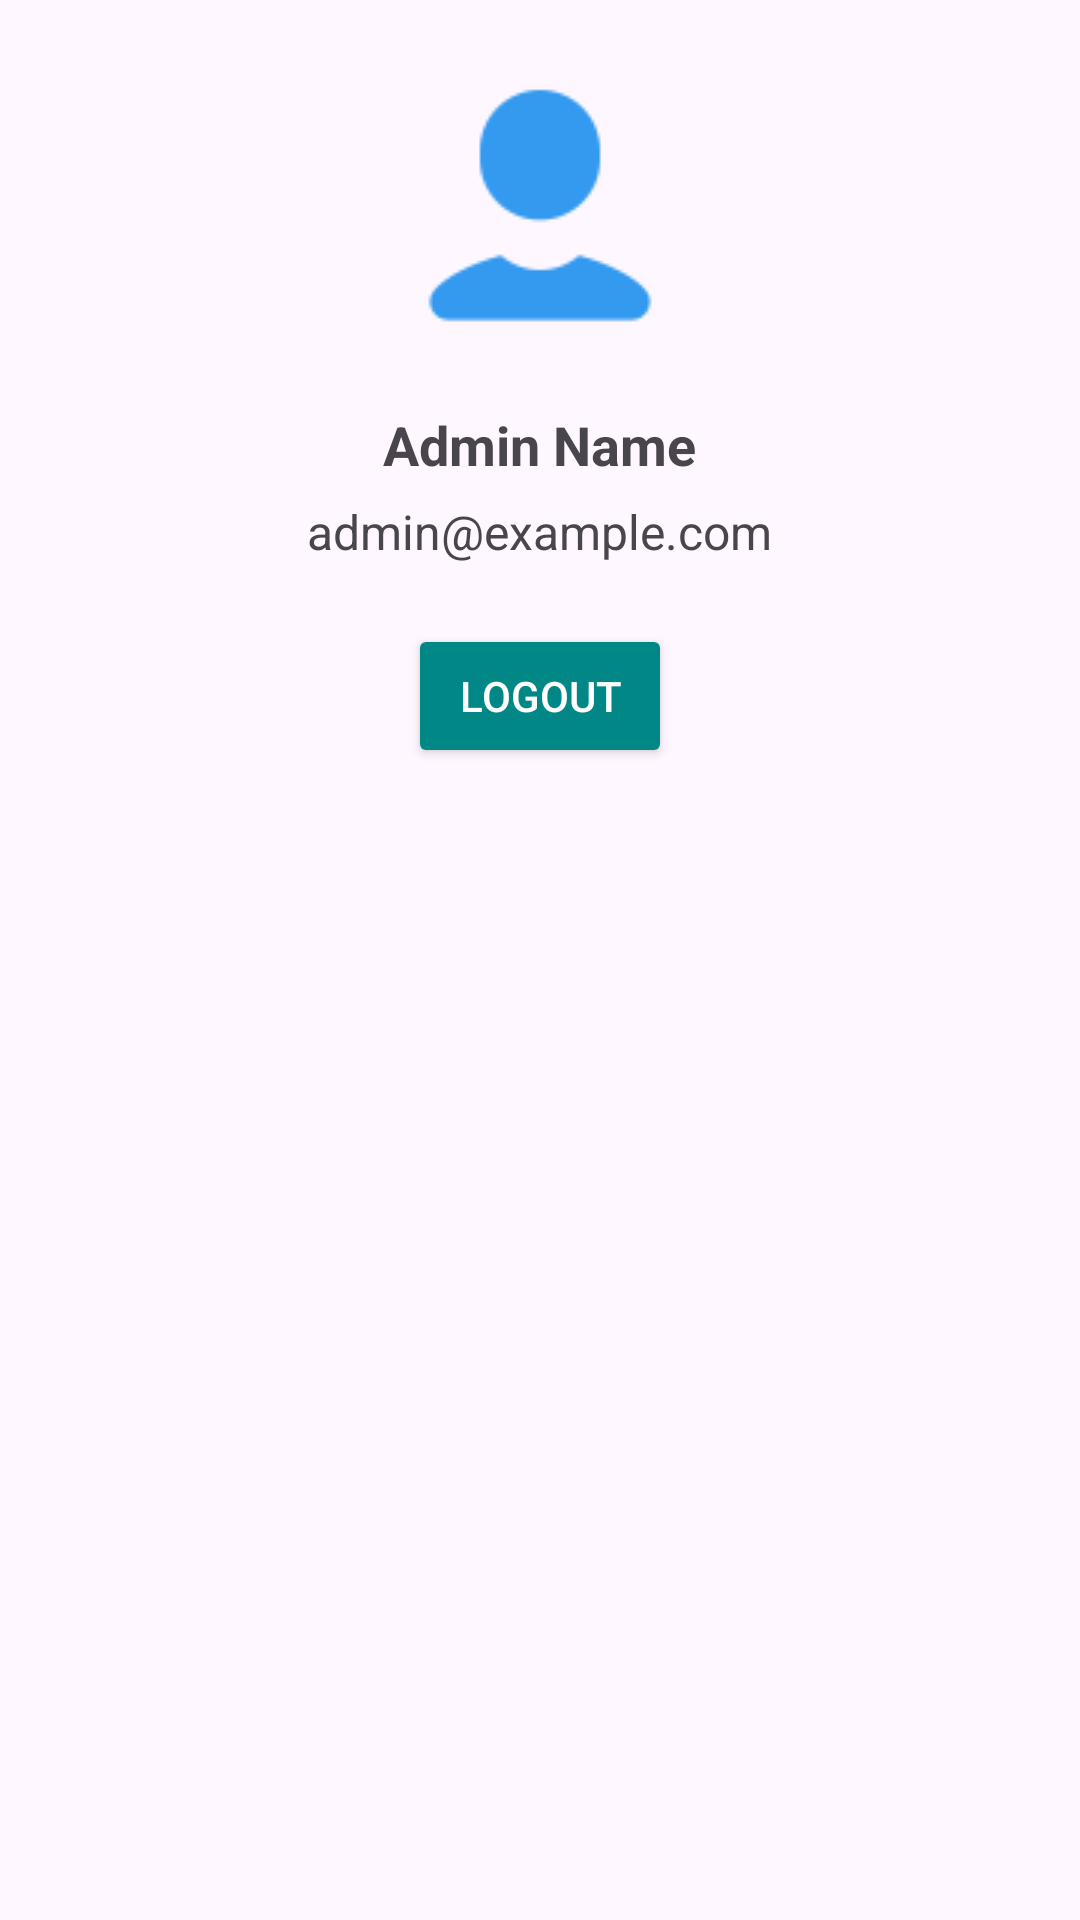

Point at icon controls on the screen. Image size 1080 x 1920, points as point (x, y).
Profile: point (540, 205)
